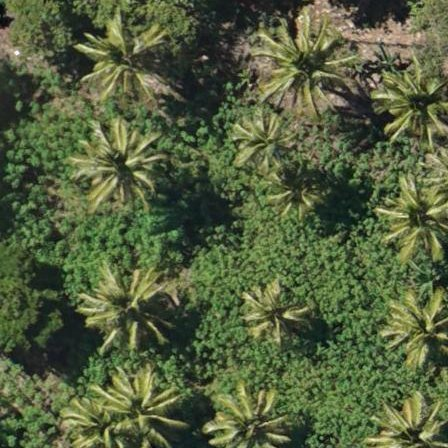palm_tree: (70, 115, 166, 217), (77, 15, 164, 108), (260, 19, 340, 101), (89, 260, 165, 341), (375, 63, 448, 147), (381, 286, 448, 373), (107, 369, 179, 446), (242, 277, 314, 348), (207, 390, 286, 448), (368, 392, 448, 448), (387, 182, 448, 248), (231, 112, 290, 174)
